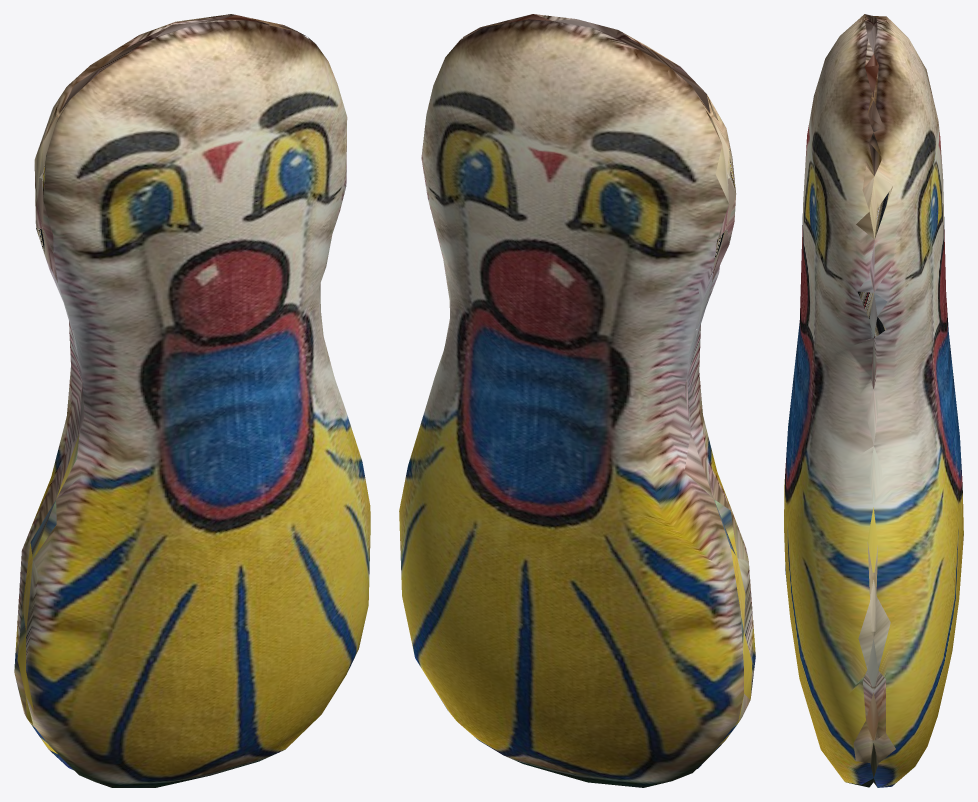
The model's file is payaso.fbx.
3 views of the same model, side by side, from view 1: azimuth 30°, elevation 25°; view 2: azimuth 150°, elevation 25°; view 3: azimuth 270°, elevation 25° (orthographic). The views are drawn at different scales.
Visible parts, largest first — view 1: Sphere.002; view 2: Sphere.002; view 3: Sphere.002.
Part boxes in pixels (x1,y1,x2,y2): Sphere.002: (14,14,370,787); Sphere.002: (399,14,755,787); Sphere.002: (784,14,963,787).
Bounding box in the file's own units: 59.13 × 124 × 28.02.
Materials: 1 (1 with a texture image).
